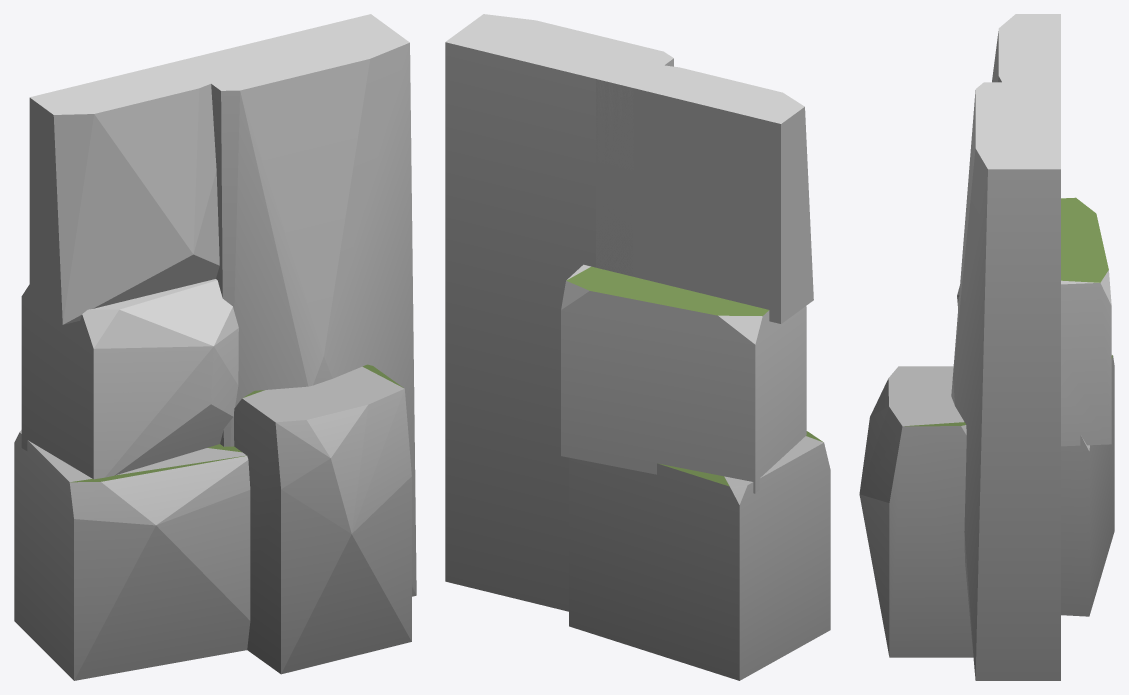
The picture shows the model from 3 angles, left to right: view 1: azimuth 30°, elevation 25°; view 2: azimuth 150°, elevation 25°; view 3: azimuth 270°, elevation 25°; orthographic projection. The views are drawn at different scales.
Parts seen in each view (by area): view 1: rk_ch3_1; view 2: rk_ch3_1; view 3: rk_ch3_1.
Boxes of the visible parts, box(x1,y1,x2,y2) form: rk_ch3_1: box(14, 14, 416, 680); rk_ch3_1: box(445, 14, 830, 680); rk_ch3_1: box(859, 14, 1114, 680).
Size of the model in its own units: 18.74 by 28.5 by 12.88.
